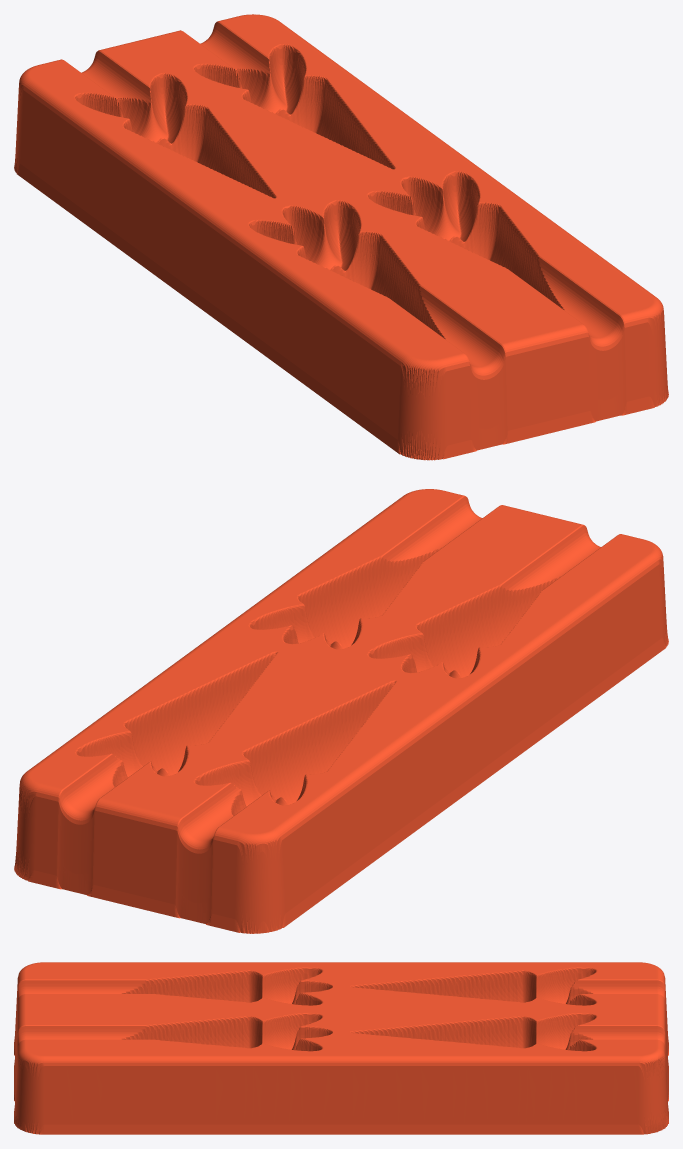
The model's file is mold.glb.
3 renders of one model, top to bottom at view 1: azimuth 30°, elevation 25°; view 2: azimuth 150°, elevation 25°; view 3: azimuth 270°, elevation 25°, orthographic. The views are drawn at different scales.
Visible parts, largest first — view 1: geometry_0; view 2: geometry_0; view 3: geometry_0.
Part boxes in pixels (<box>): geometry_0: <box>14,14,668,460</box>; geometry_0: <box>14,489,668,933</box>; geometry_0: <box>14,962,668,1134</box>.
Bounding box in the file's own units: 0.0731 × 0.0245 × 0.1968.
